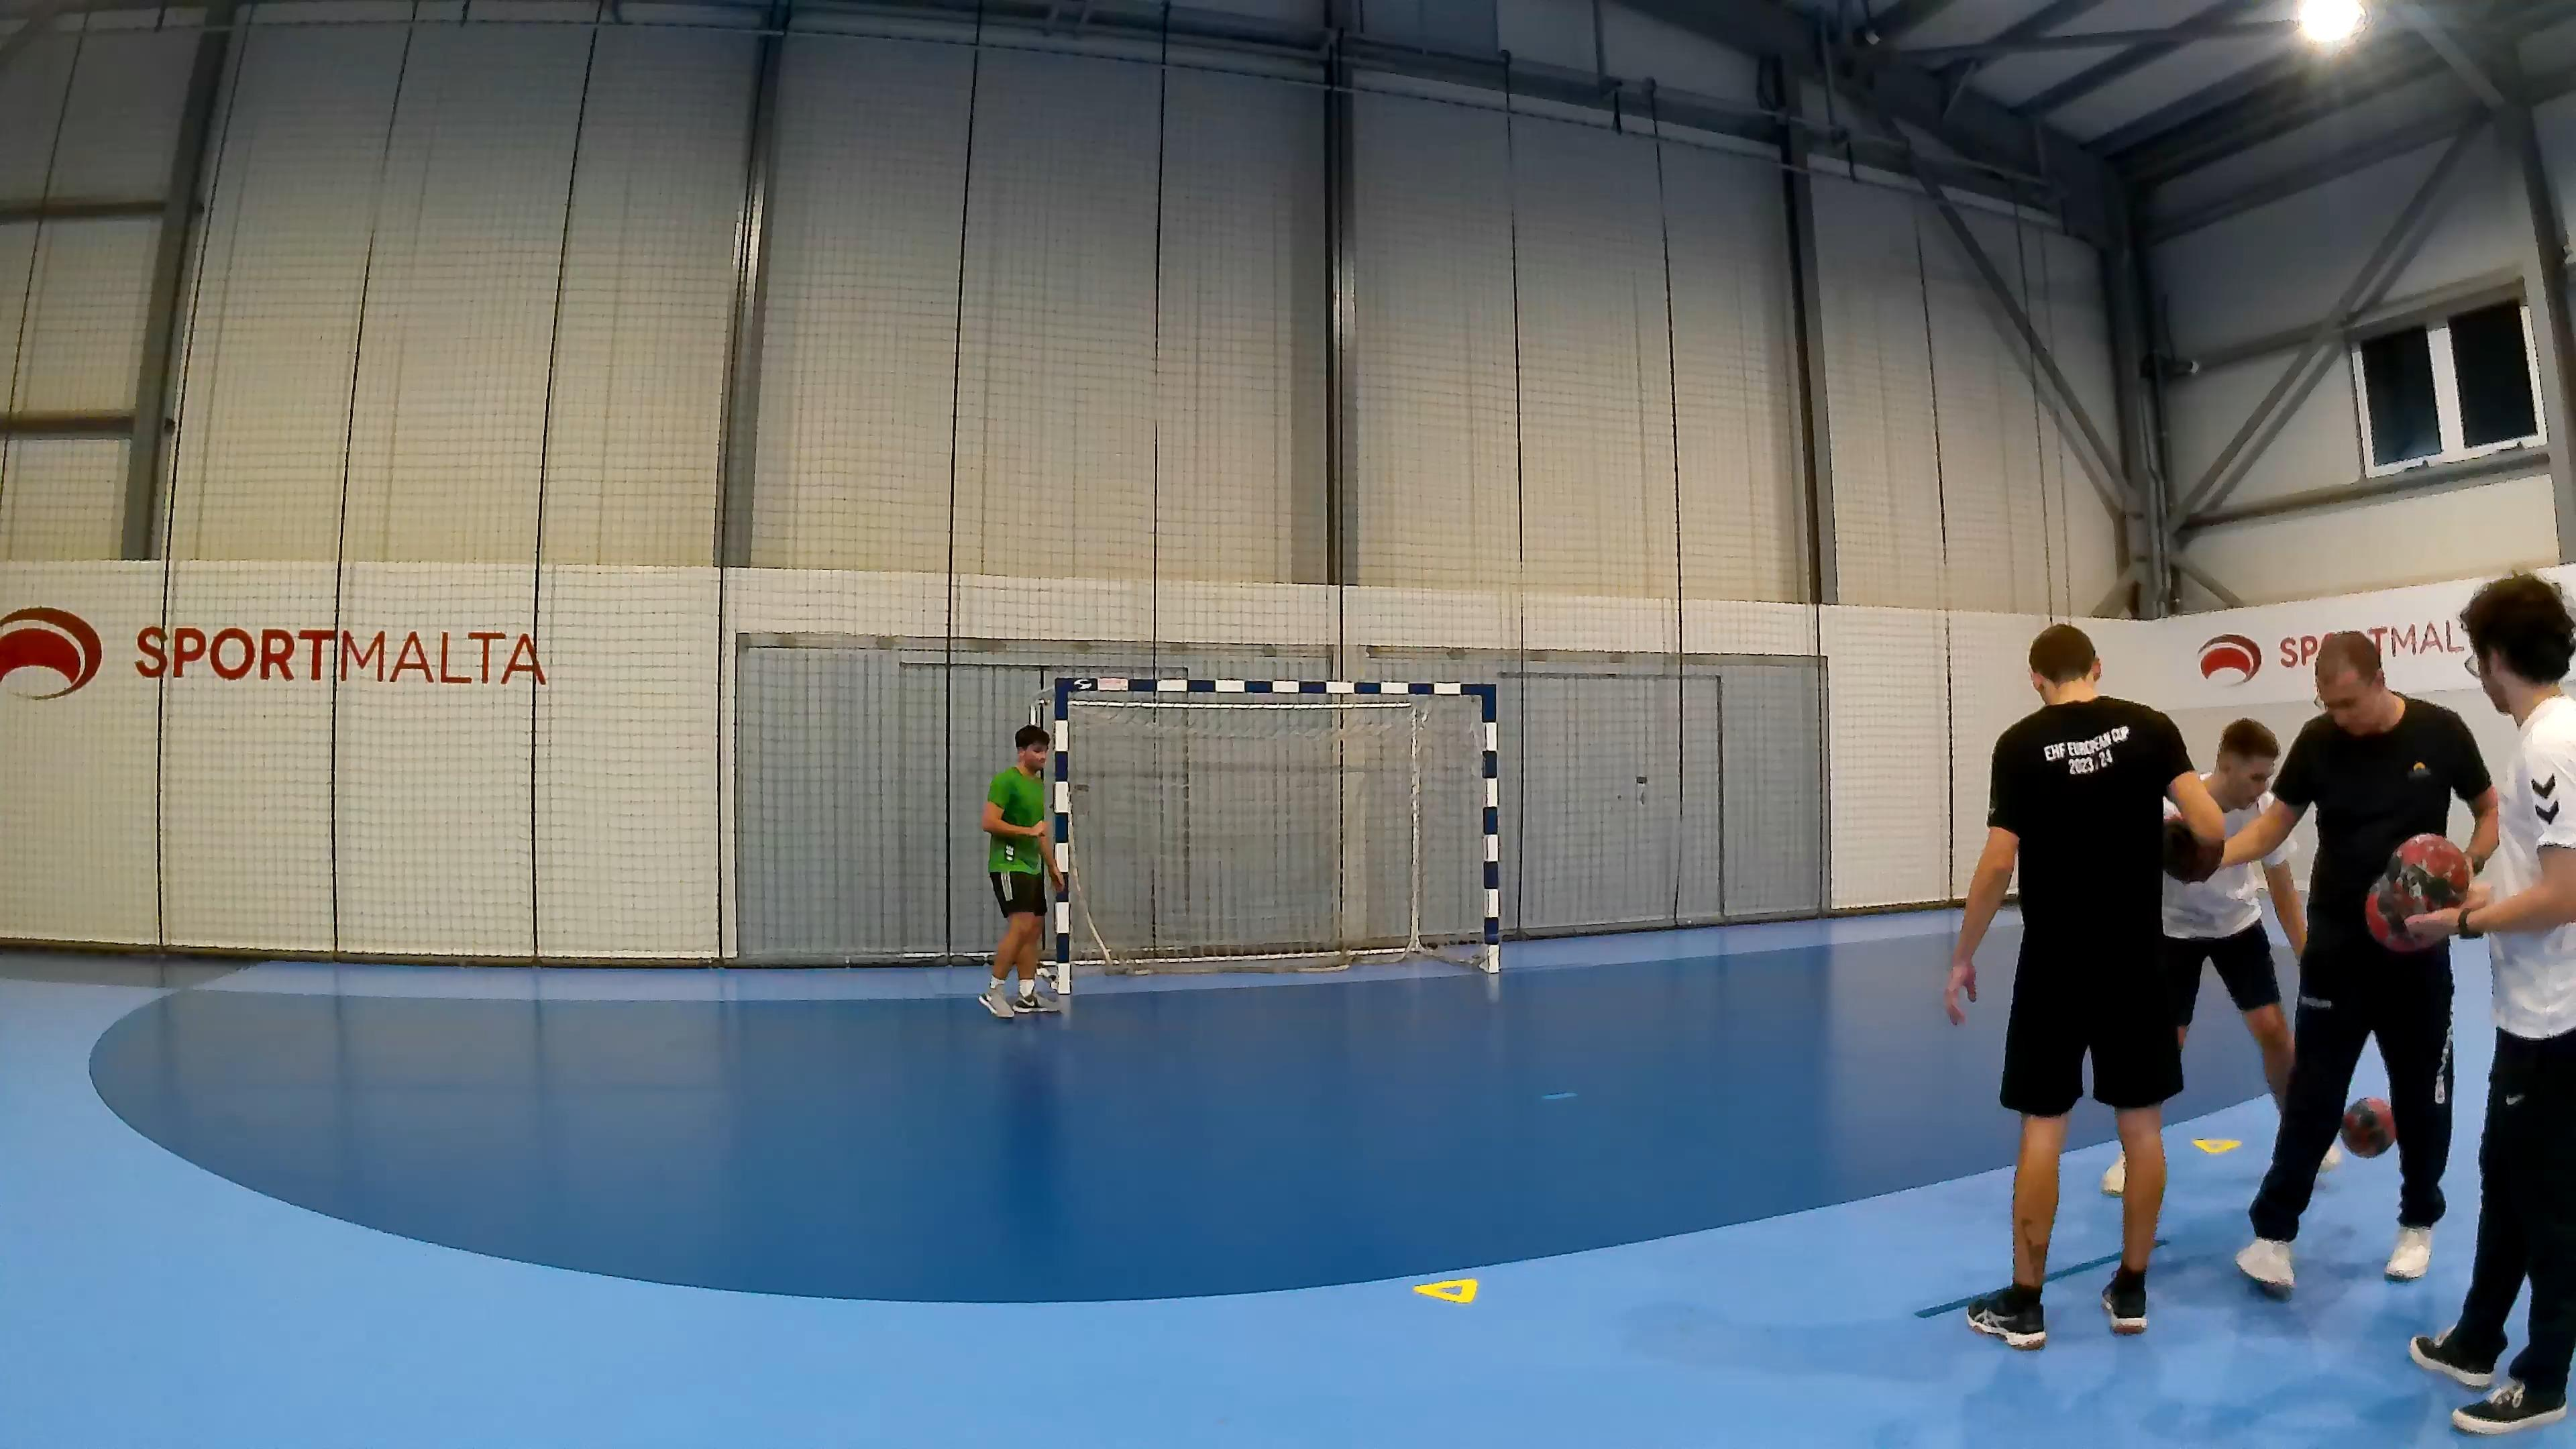handball: (2362, 832, 2470, 952)
